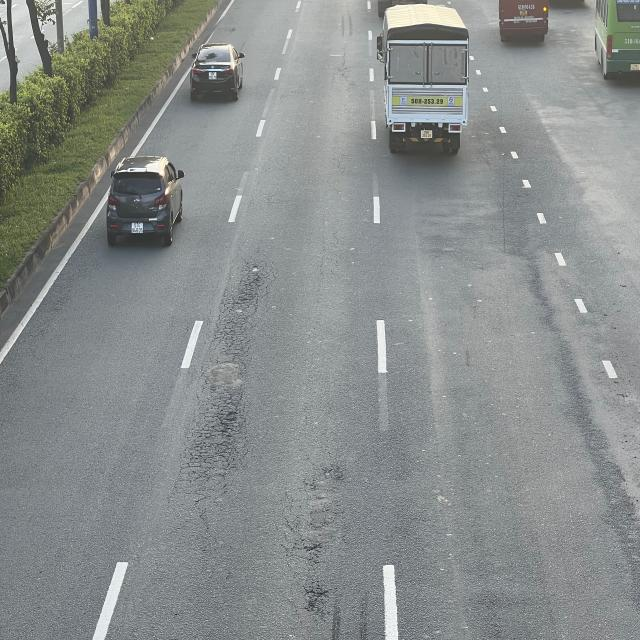car: (108, 158, 186, 248), (189, 46, 244, 104)
truck: (378, 4, 474, 150)
